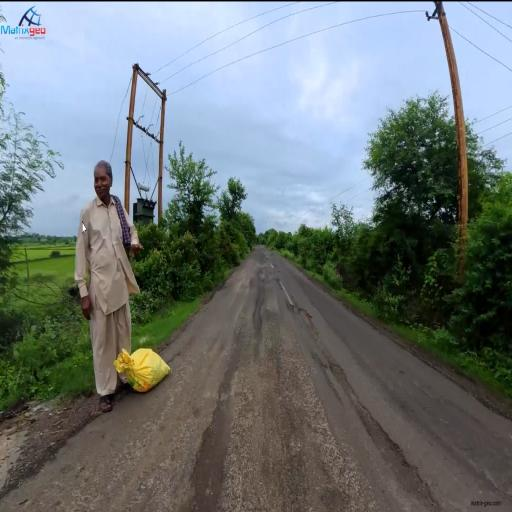longitudinal_crack: (337, 351, 389, 431)
ravelling: (250, 358, 308, 479)
